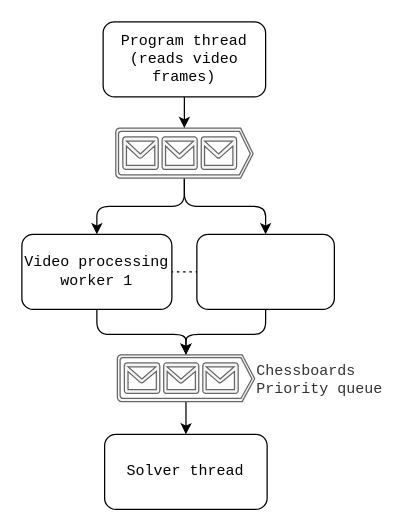
Some shapes in this 405 by 531 pixel diagram are drawn without their labels. The centre of each missing label's shape, as x and y in pixels:
"Video frames FIFO queue" goes at pixel 183 152.
"VideoProcessing worker 6" goes at pixel 265 271.
